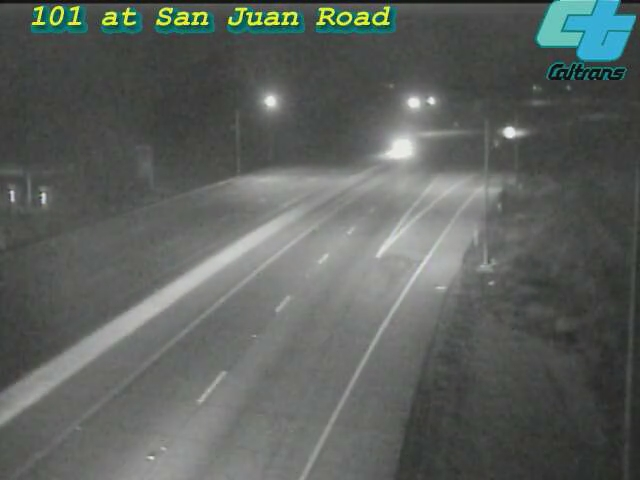vehicle: (373, 123, 423, 173), (485, 107, 535, 157)
